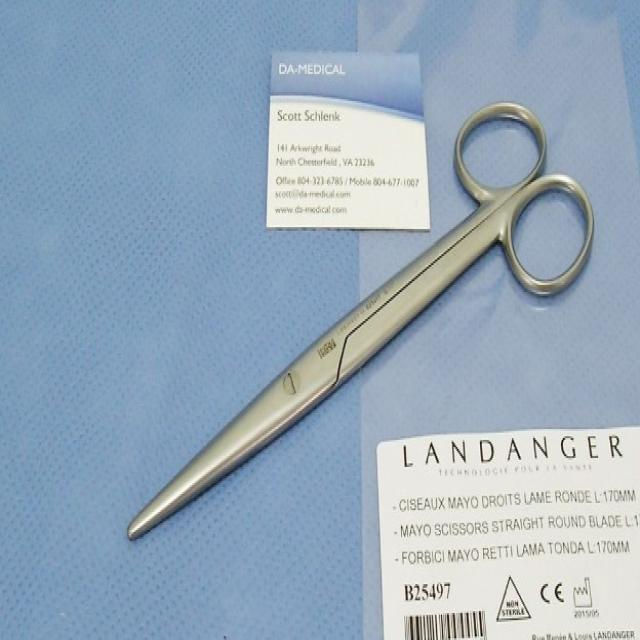Straight Mayo: (128, 88, 594, 546)
